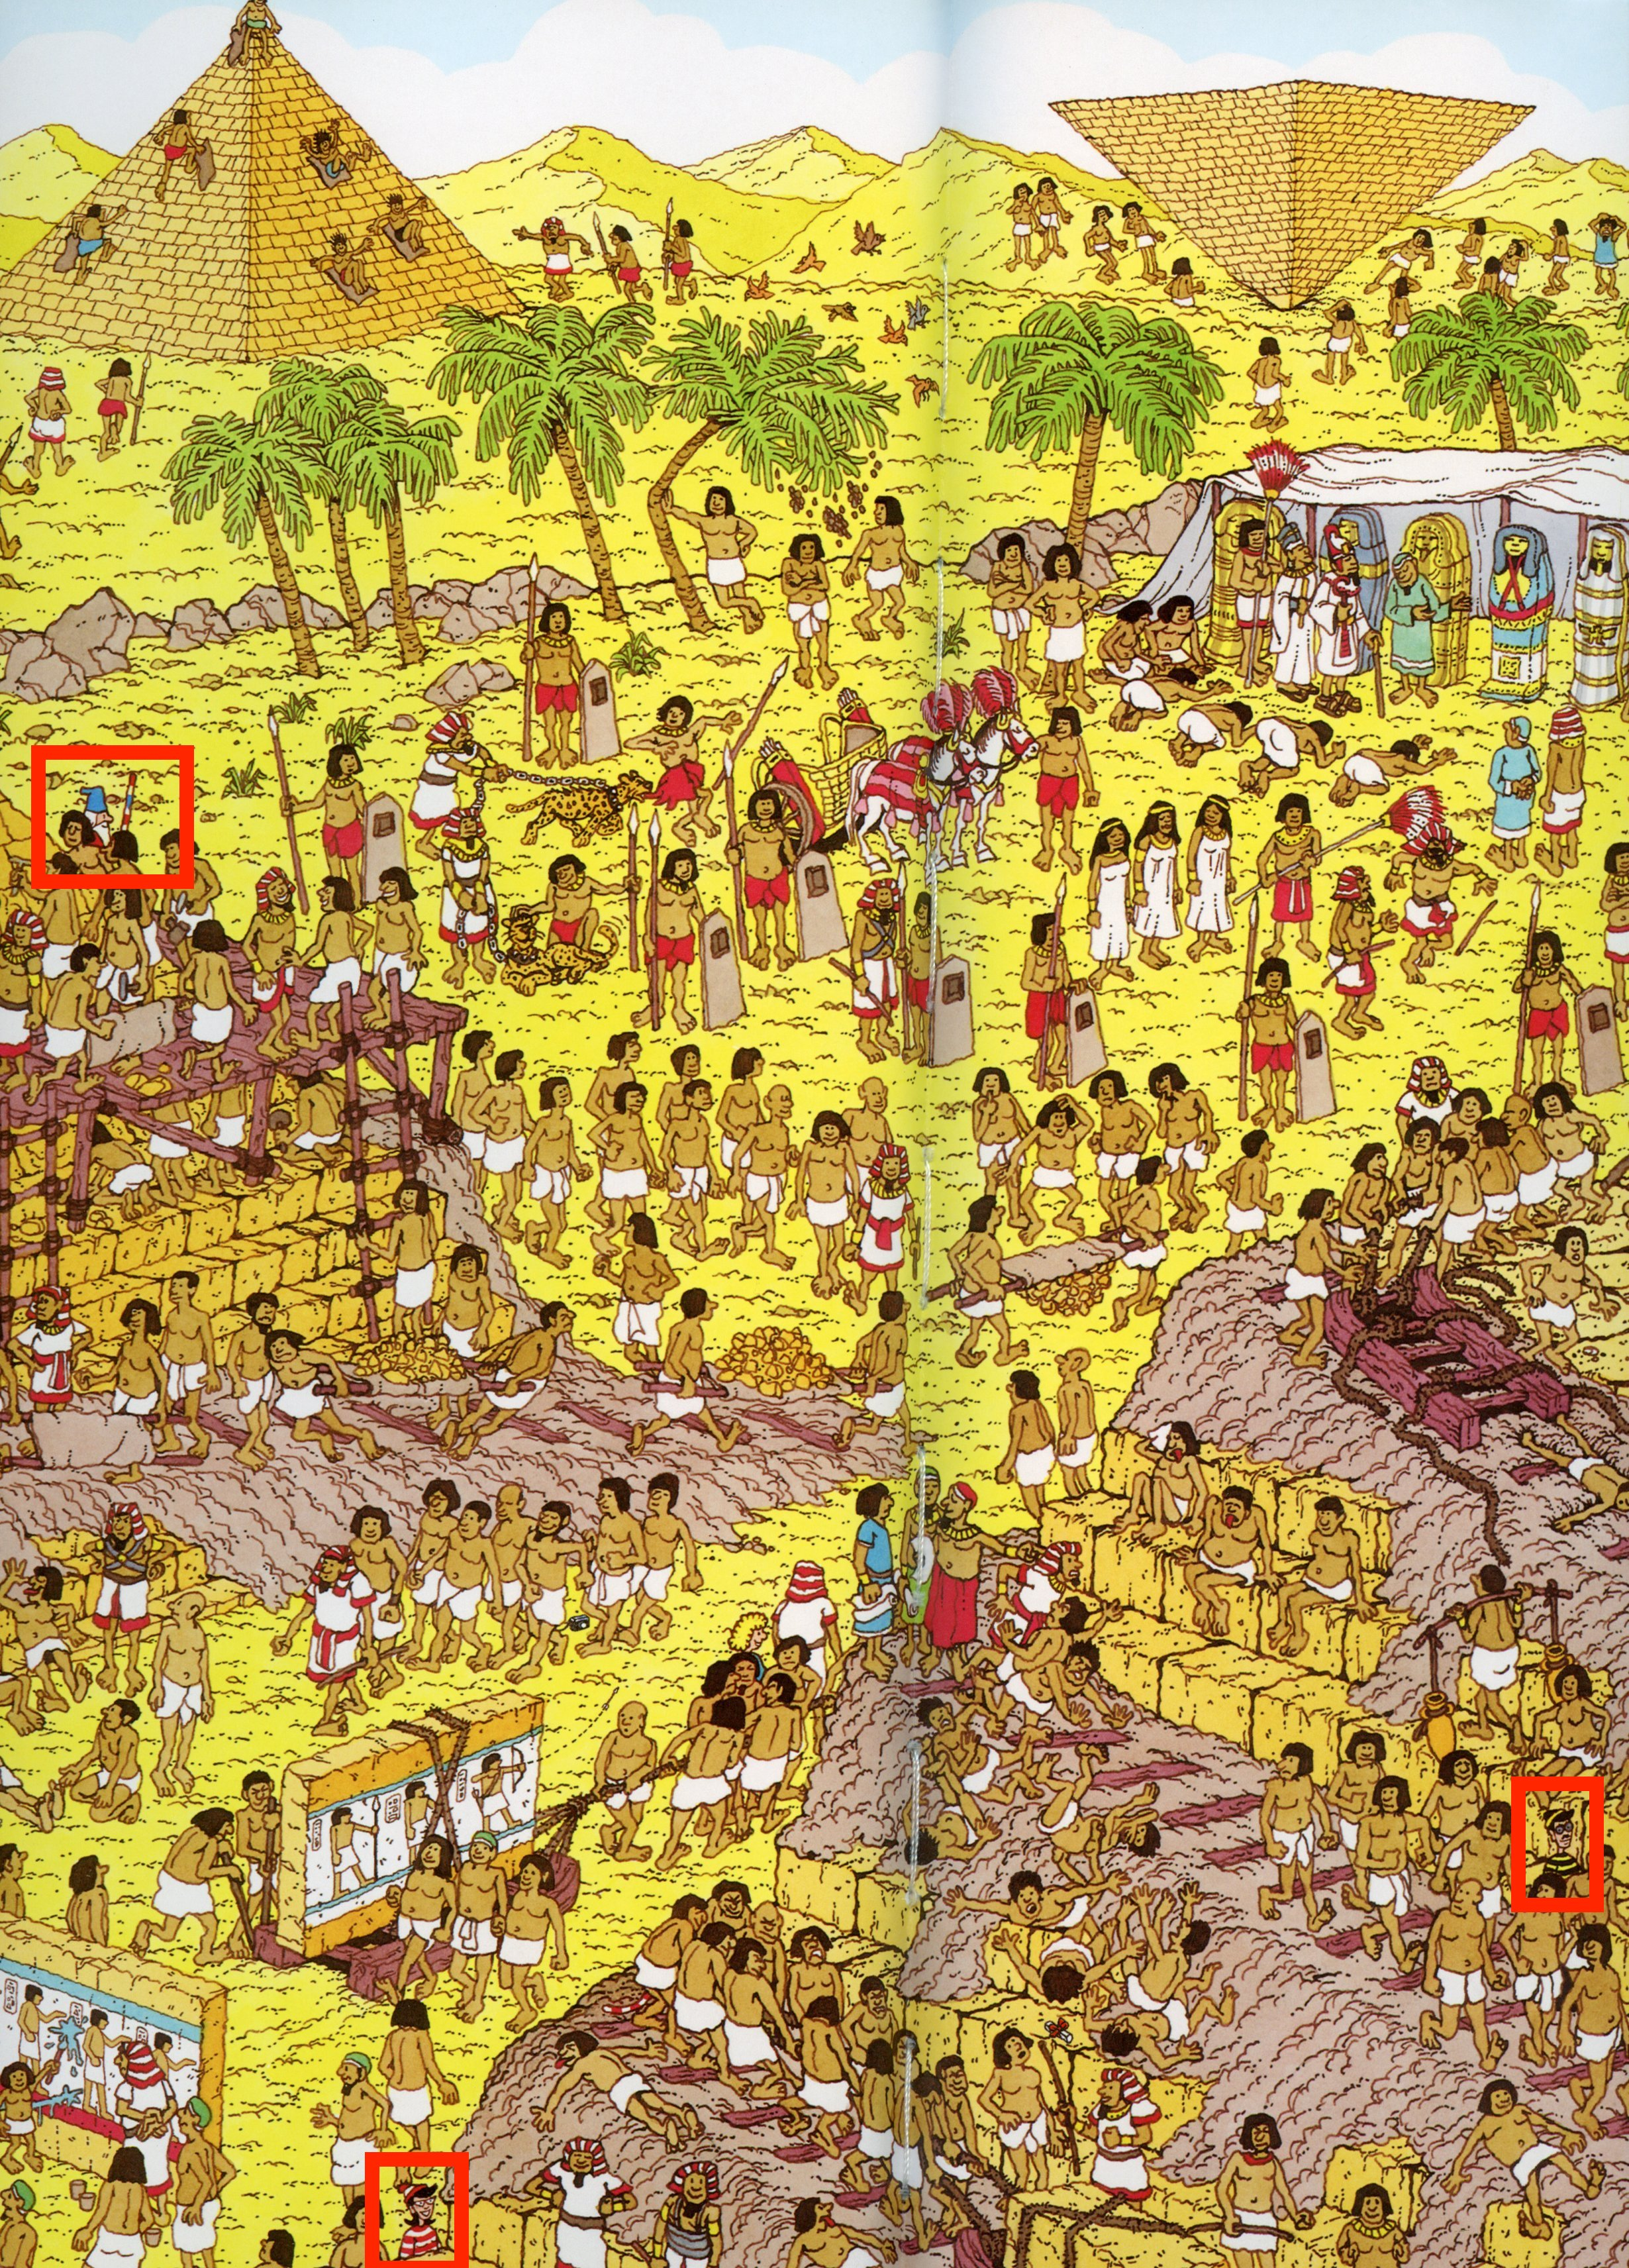odlaw: (1515, 1782, 1608, 1935)
wenda: (375, 2159, 465, 2259)
white beard: (44, 748, 194, 896)
